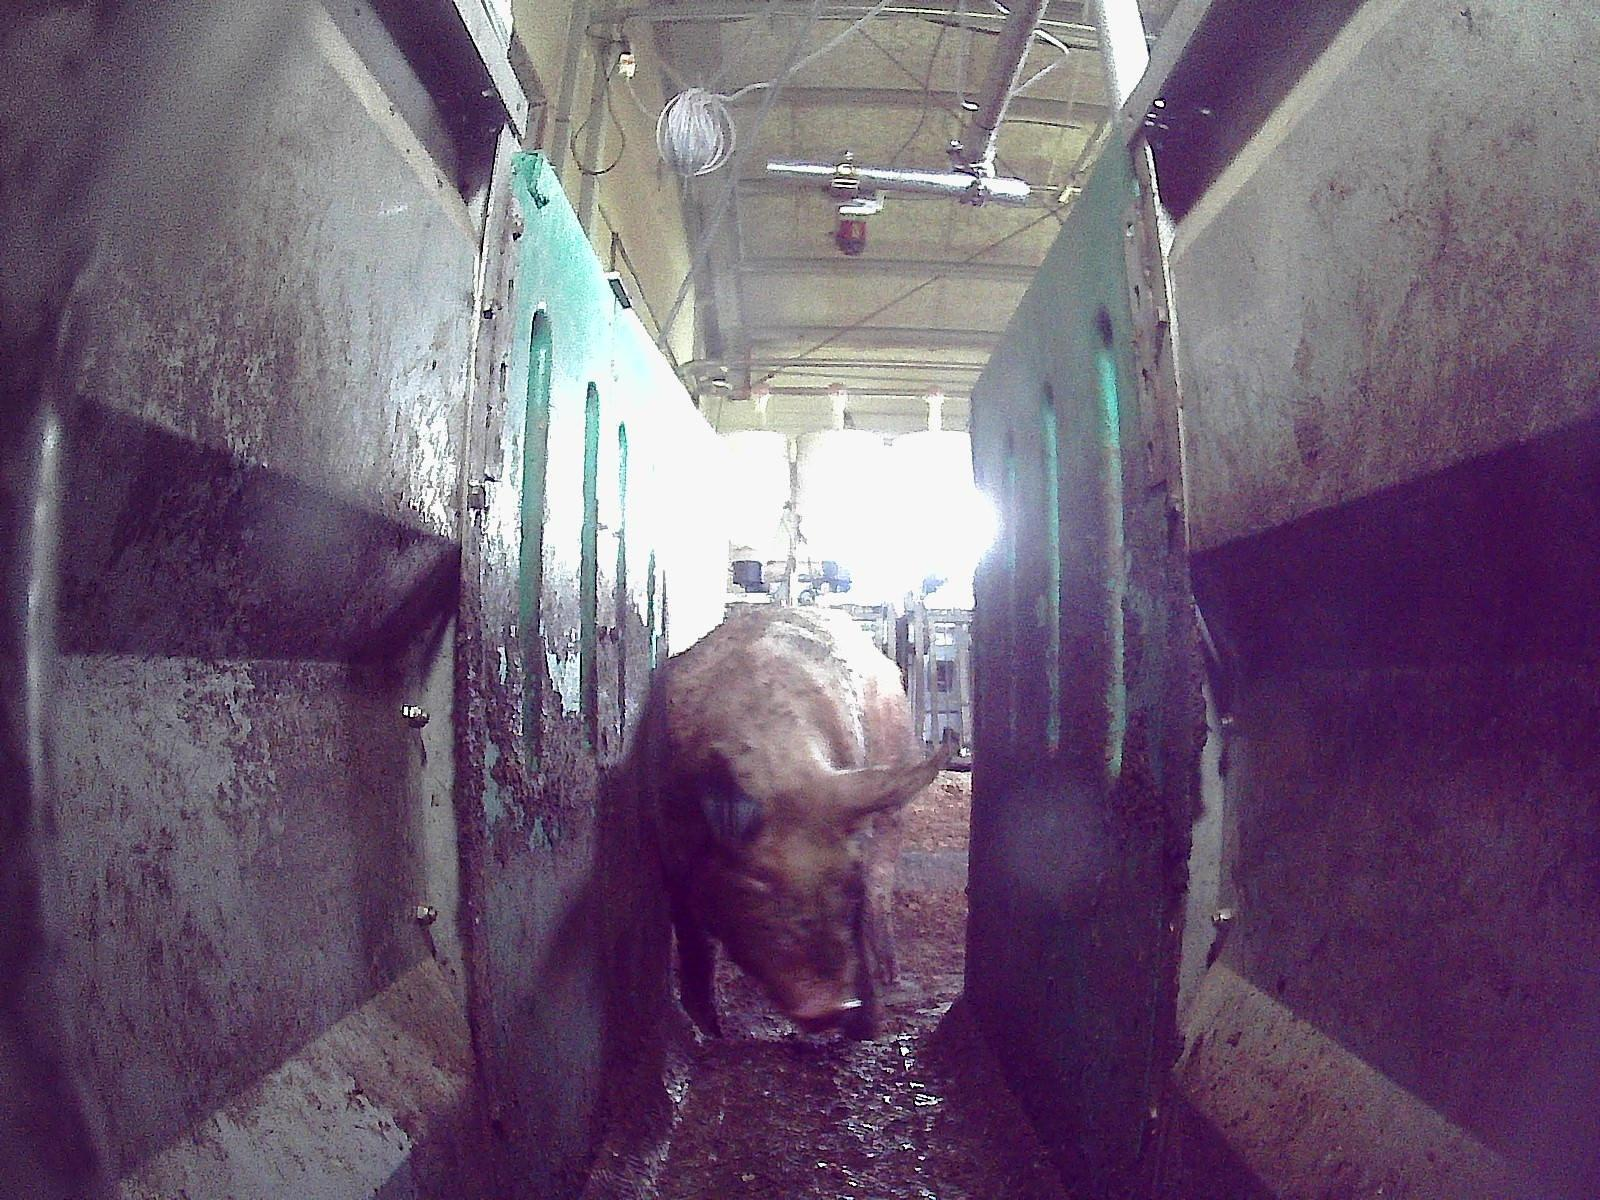Face: (712, 808, 867, 1032)
